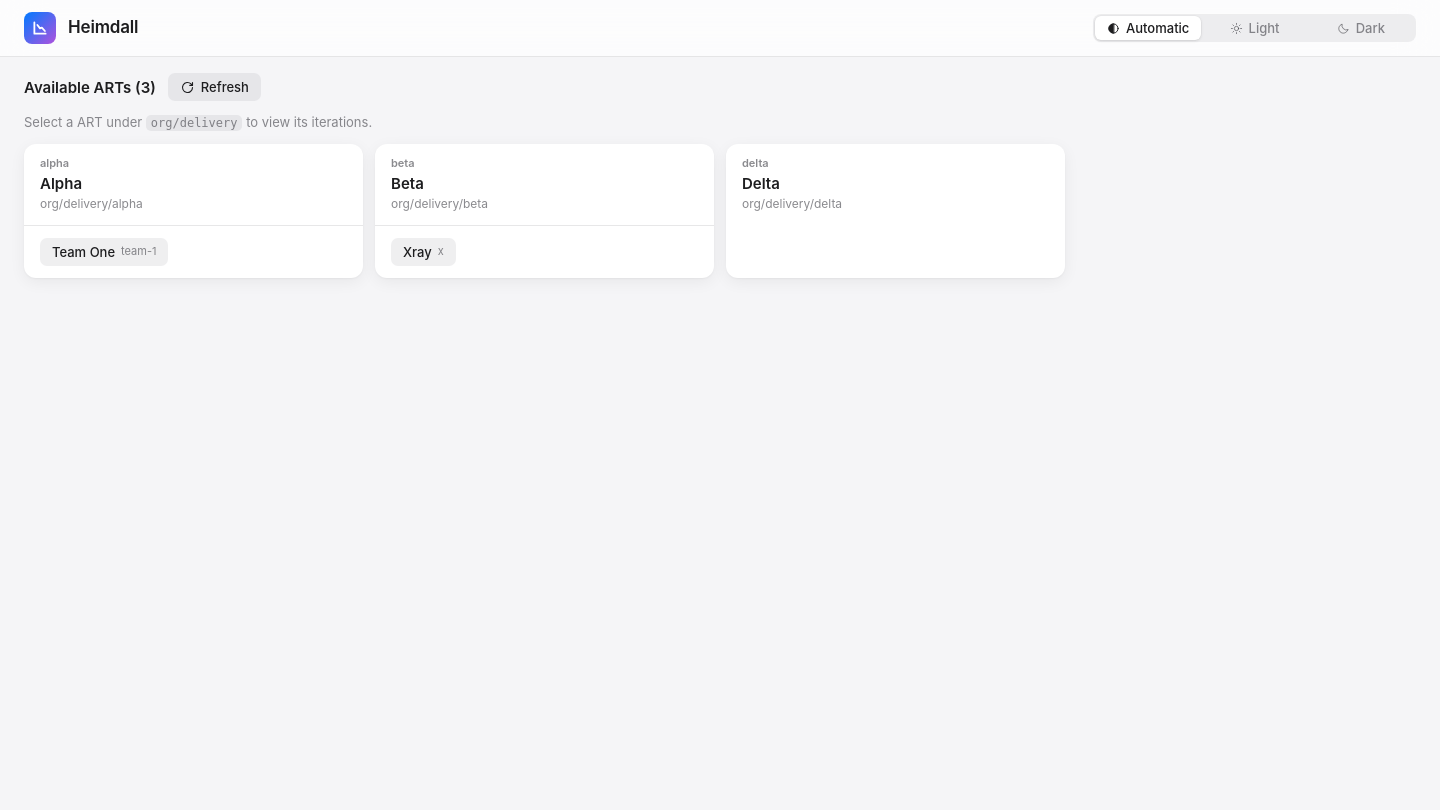
Test: §3.2 right rail › SA01 heading `Annotations (0)`, empty text, help box `How to use` with its two lines
Click the text "Alpha".
click(61, 184)  # box [40, 173, 82, 194]
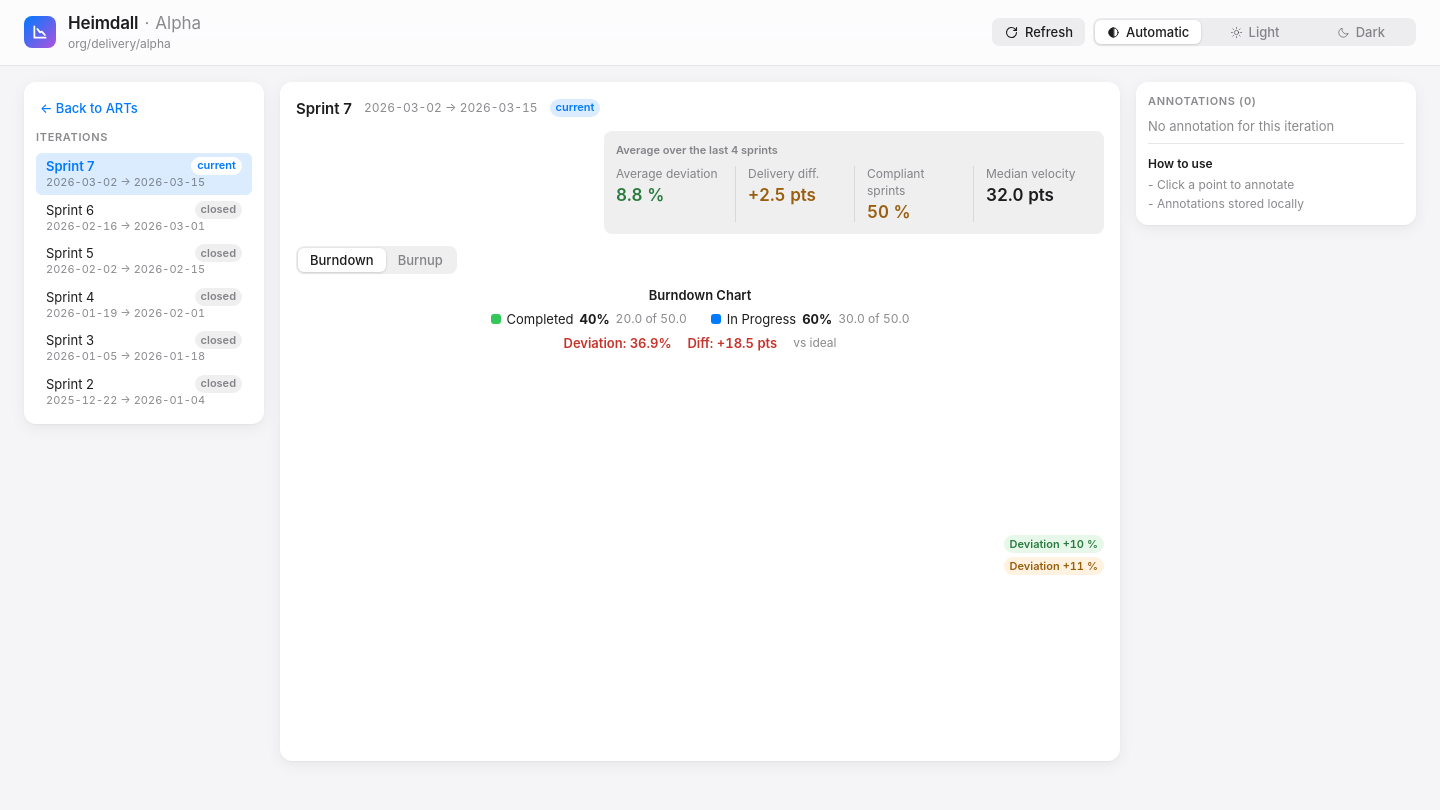
Now the heading "Annotations (0)" is shown, box [1148, 94, 1257, 108]
Now the text "No annotation for this iteration" is shown, box [1148, 118, 1334, 134]
Now the heading "How to use" is shown, box [1148, 156, 1213, 171]
